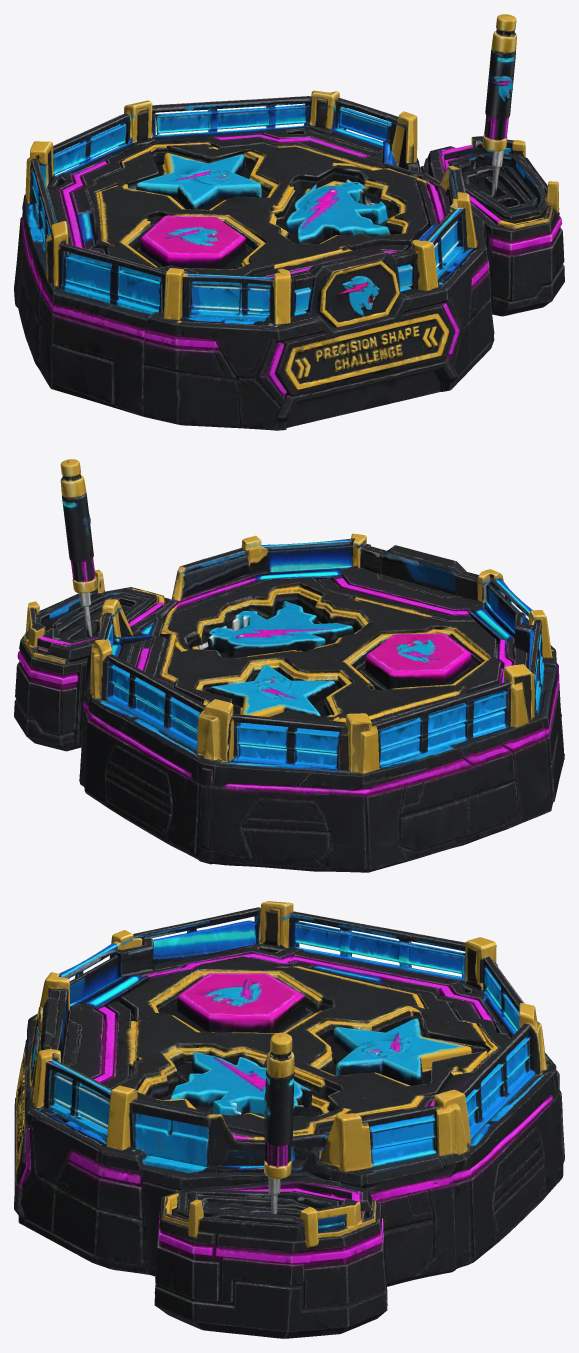
Rendered from precision-challenge-station.glb.
3 renders of one model, top to bottom at view 1: azimuth 30°, elevation 25°; view 2: azimuth 150°, elevation 25°; view 3: azimuth 270°, elevation 25°, orthographic. The views are drawn at different scales.
Size of the model in its own units: 1.9 by 0.9021 by 1.57.
Materials: 1 (1 with a texture image).
